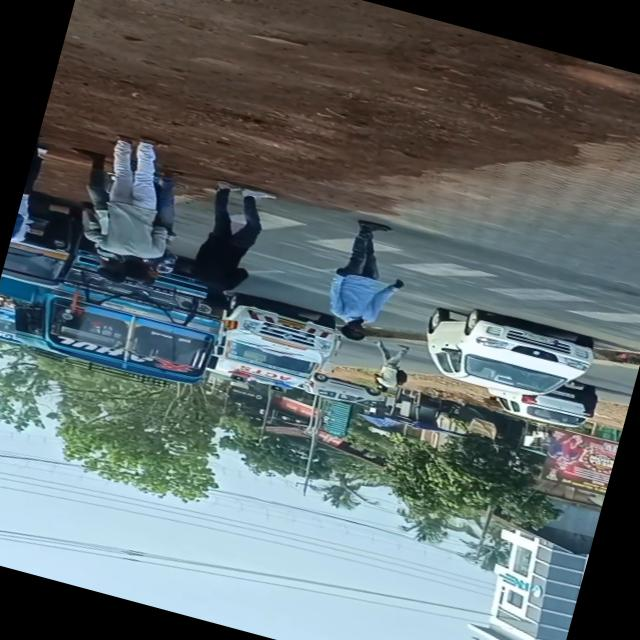ambulance: (210, 294, 348, 408)
